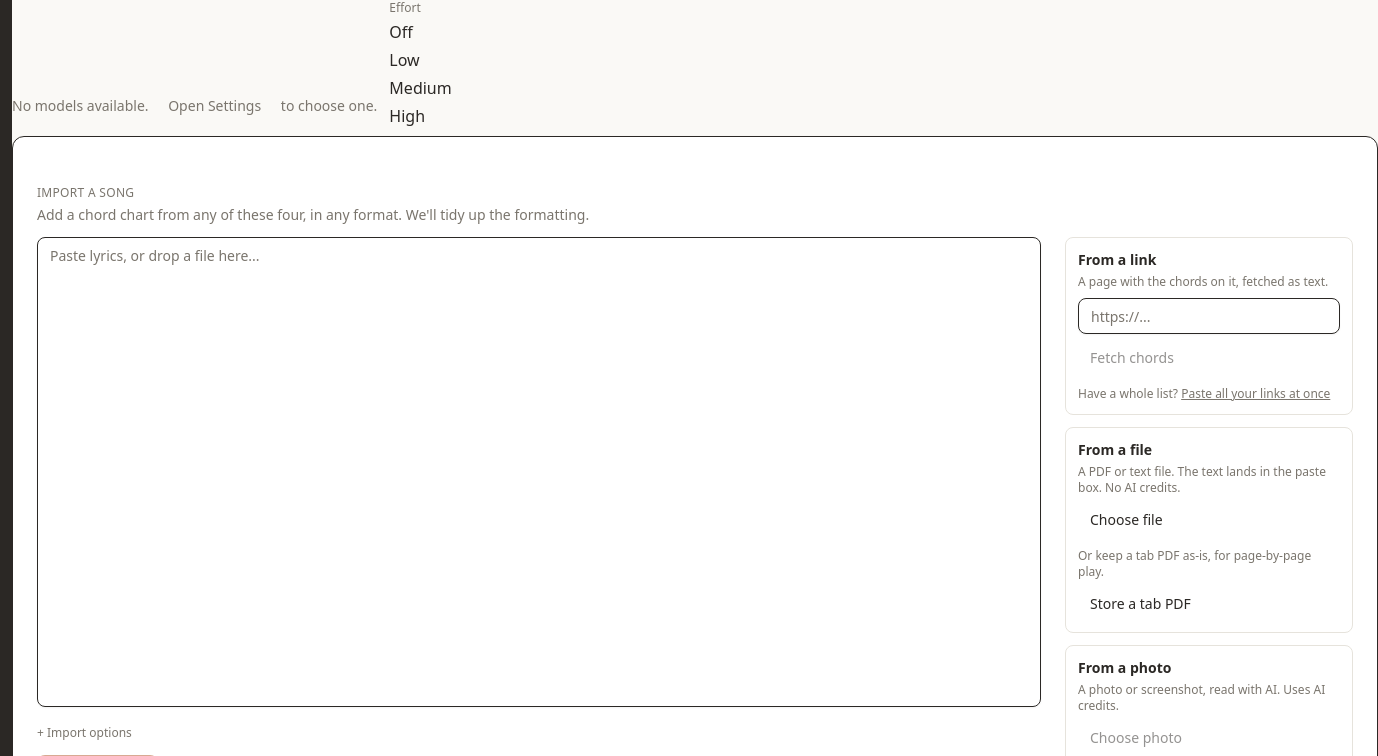
RewriteTab › free import (Add to library) › stays enabled with no model configured, while the AI actions do not
In the text box with placeholder "Paste lyrics, or drop a file here...": (539, 472) x1=37 y1=237 x2=1041 y2=707, type "Some chart"
(page scrolled)
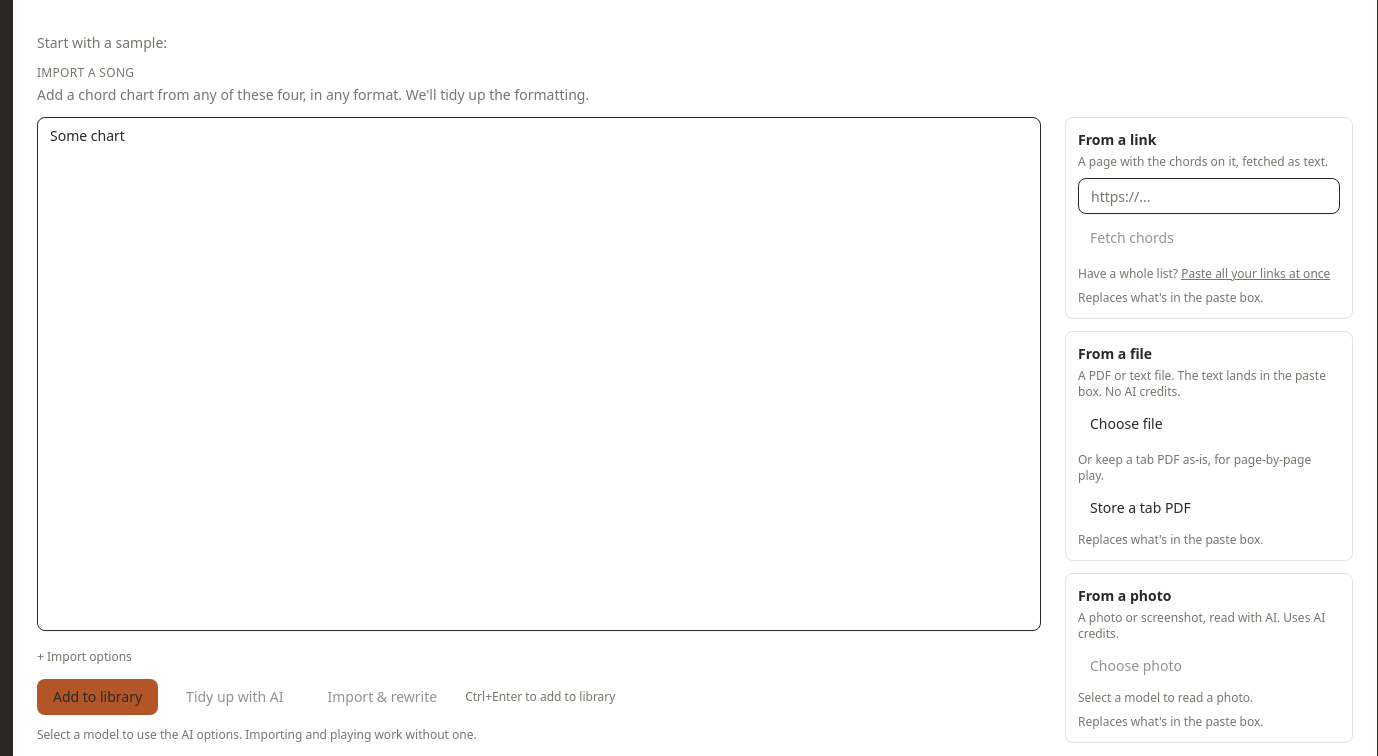
Check: the button "Tidy up with AI" is disabled, box x1=170 y1=679 x2=299 y2=715
Check: the button "Add to library" is enabled, box x1=37 y1=679 x2=158 y2=715
Check: the text "Importing and playing work without one" is shown, box x1=119 y1=726 x2=477 y2=743
